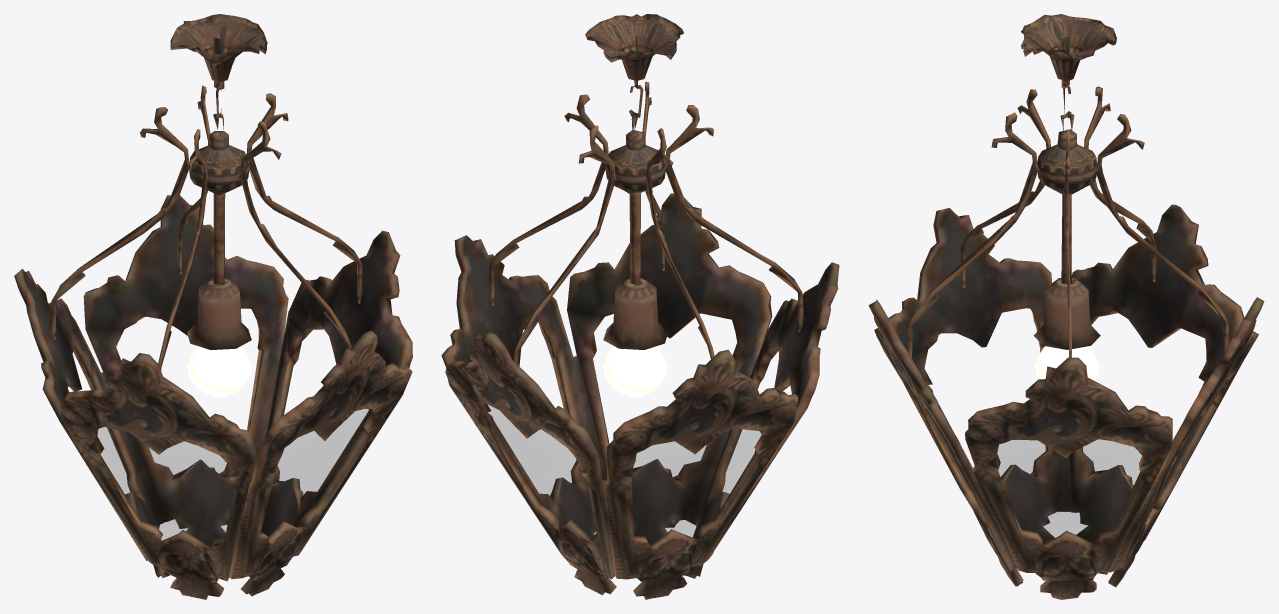
File: lantern_chandelier_01.glb
3 renders of one model, left to right at view 1: azimuth 30°, elevation 25°; view 2: azimuth 150°, elevation 25°; view 3: azimuth 270°, elevation 25°, orthographic.
Parts seen in each view (by area): view 1: lantern_chandelier_01; view 2: lantern_chandelier_01; view 3: lantern_chandelier_01.
Part boxes in pixels (x1,y1,x2,y2): lantern_chandelier_01: [14, 14, 412, 599]; lantern_chandelier_01: [441, 14, 839, 599]; lantern_chandelier_01: [868, 14, 1264, 599].
Size of the model in its own units: 0.5775 by 0.8776 by 0.5746.
Materials: 3 (2 with a texture image).
